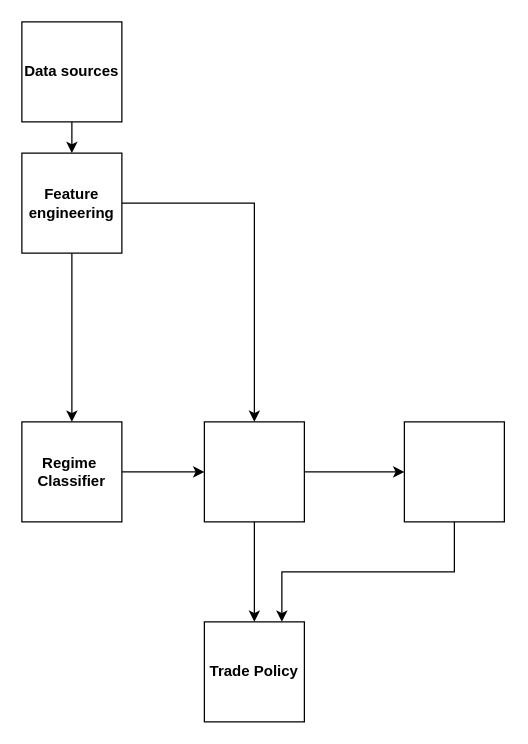
The diagram is 528 pixels wide and 744 high, and some of its shapes have lost their labels. The centre of each missing label's shape, as x and y in pixels:
"Forecast engine" goes at (x=253, y=471).
"Policy Gate (deterministic)" goes at (x=453, y=471).
